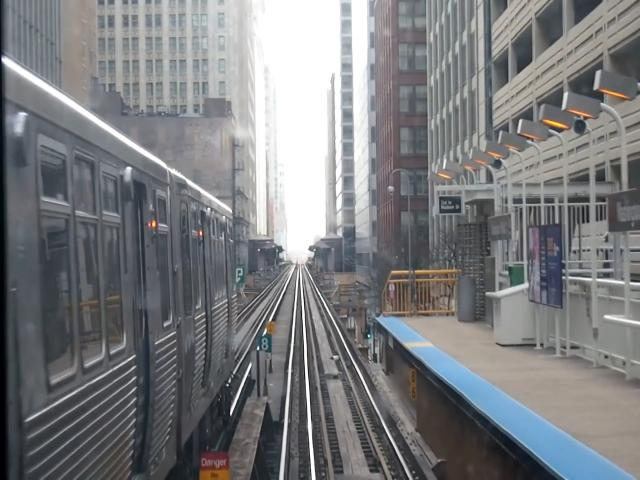signal light: (367, 326, 373, 343)
